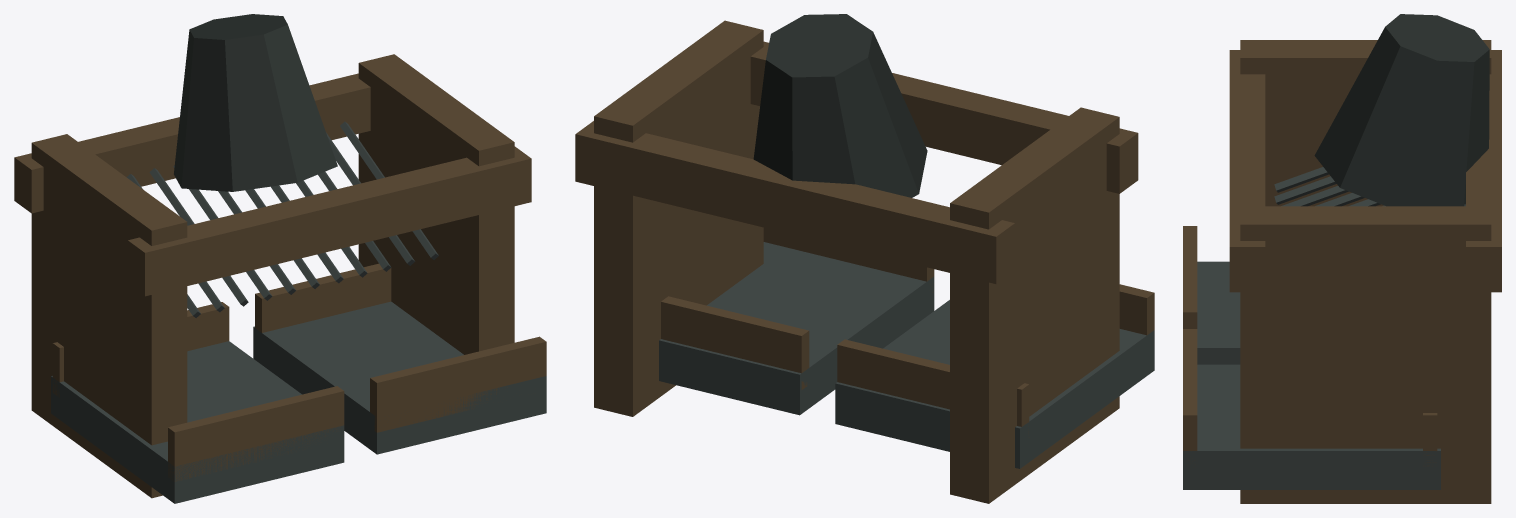
The model's file is strange_sorter.glb.
3 renders of one model, left to right at view 1: azimuth 30°, elevation 25°; view 2: azimuth 150°, elevation 25°; view 3: azimuth 270°, elevation 25°, orthographic. The views are drawn at different scales.
Visible parts, largest first — view 1: strange_sorter; view 2: strange_sorter; view 3: strange_sorter.
Part boxes in pixels (left/top/right/bottom): strange_sorter: left=14, top=14, right=546, bottom=503; strange_sorter: left=575, top=14, right=1154, bottom=503; strange_sorter: left=1183, top=14, right=1501, bottom=503.
Bounding box in the file's own units: 1.3 × 1.18 × 0.89.
